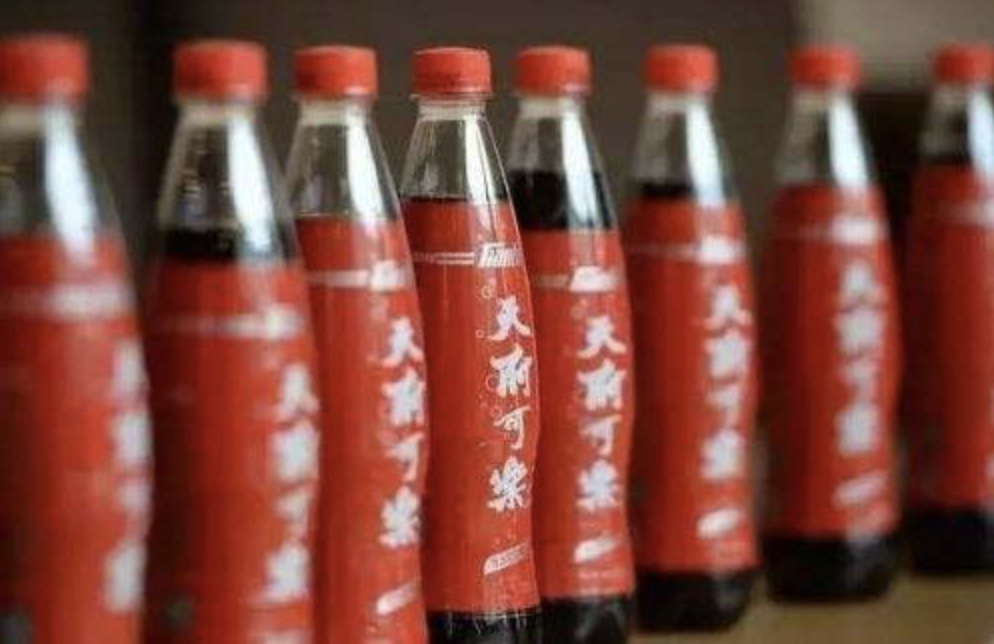天府可乐: (271, 33, 441, 623), (155, 37, 320, 630), (490, 35, 650, 625), (11, 22, 163, 629), (399, 35, 553, 629), (756, 22, 909, 615), (623, 33, 771, 626), (898, 38, 986, 585)
